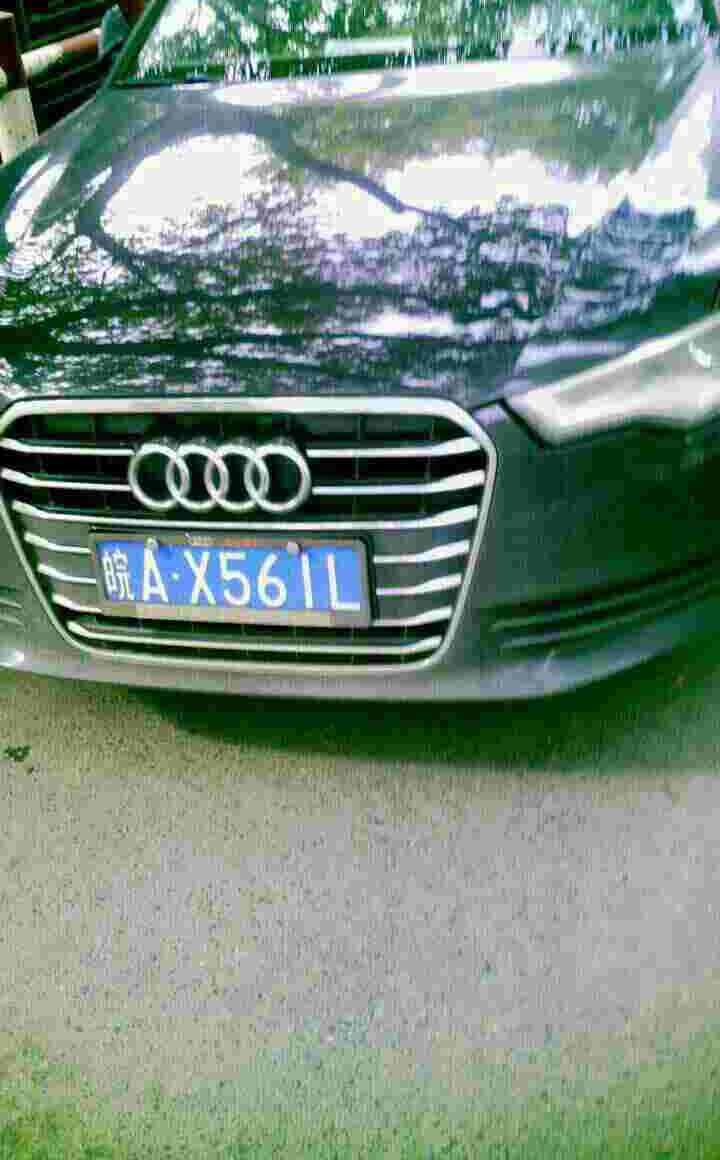license_plate: (87, 541, 377, 613)
